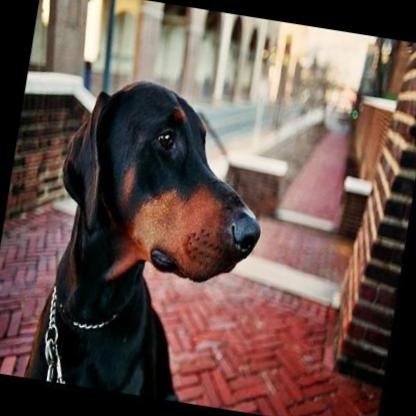Doberman: (22, 67, 282, 412)
